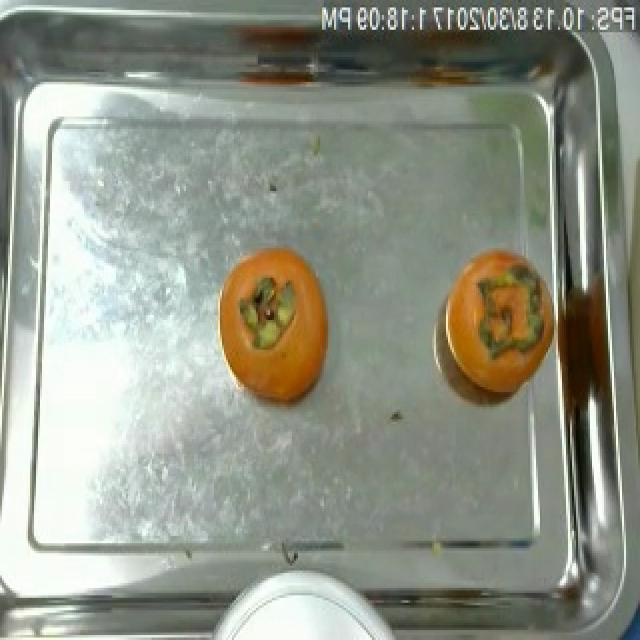Fruit: (212, 236, 336, 414), (436, 238, 552, 414)
